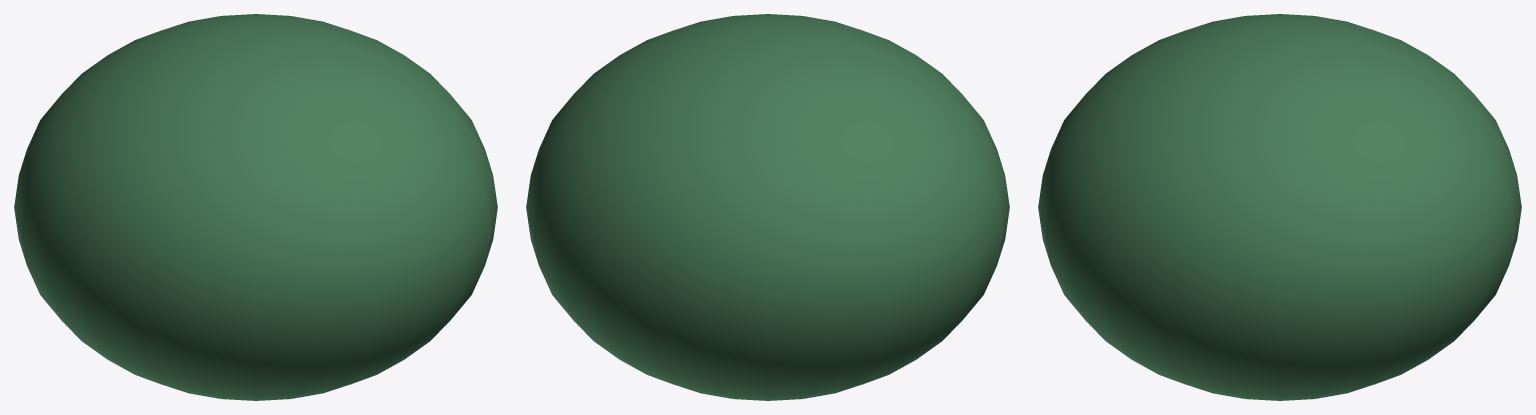
Rendered from beanbag.glb.
3 views of the same model, side by side, from view 1: azimuth 30°, elevation 25°; view 2: azimuth 150°, elevation 25°; view 3: azimuth 270°, elevation 25° (orthographic).
Size of the model in its own units: 0.9 by 0.675 by 0.9.
